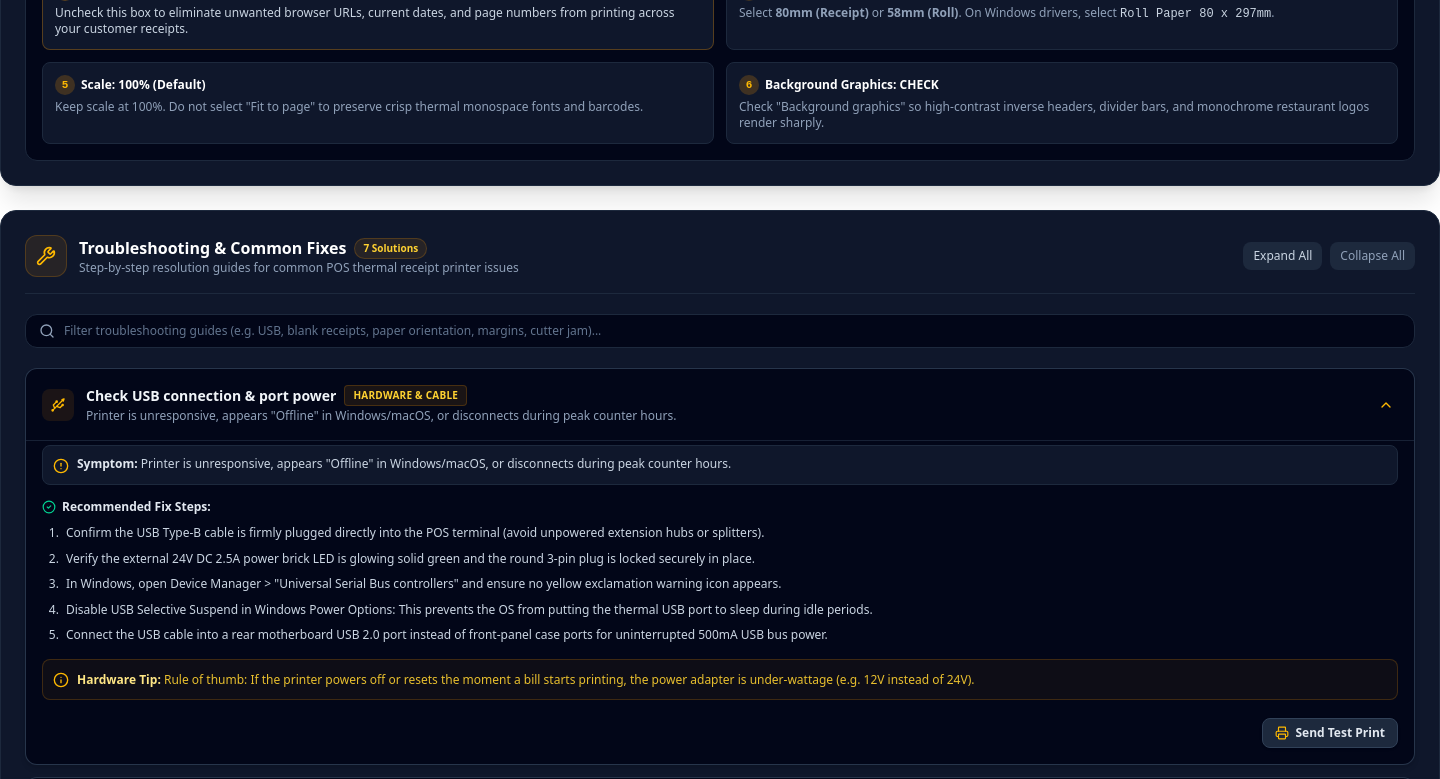
Test: PrinterDiagnosticView › allows collapsing and expanding accordion items
(page scrolled)
Expected: the list item "Confirm the USB Type-B cable is firmly plugged directly" is shown, [66,524,764,541]
// Clicking header collapses it
Click the button "Check USB connection & port power".
click(58, 405)  # box [26,369,1414,440]
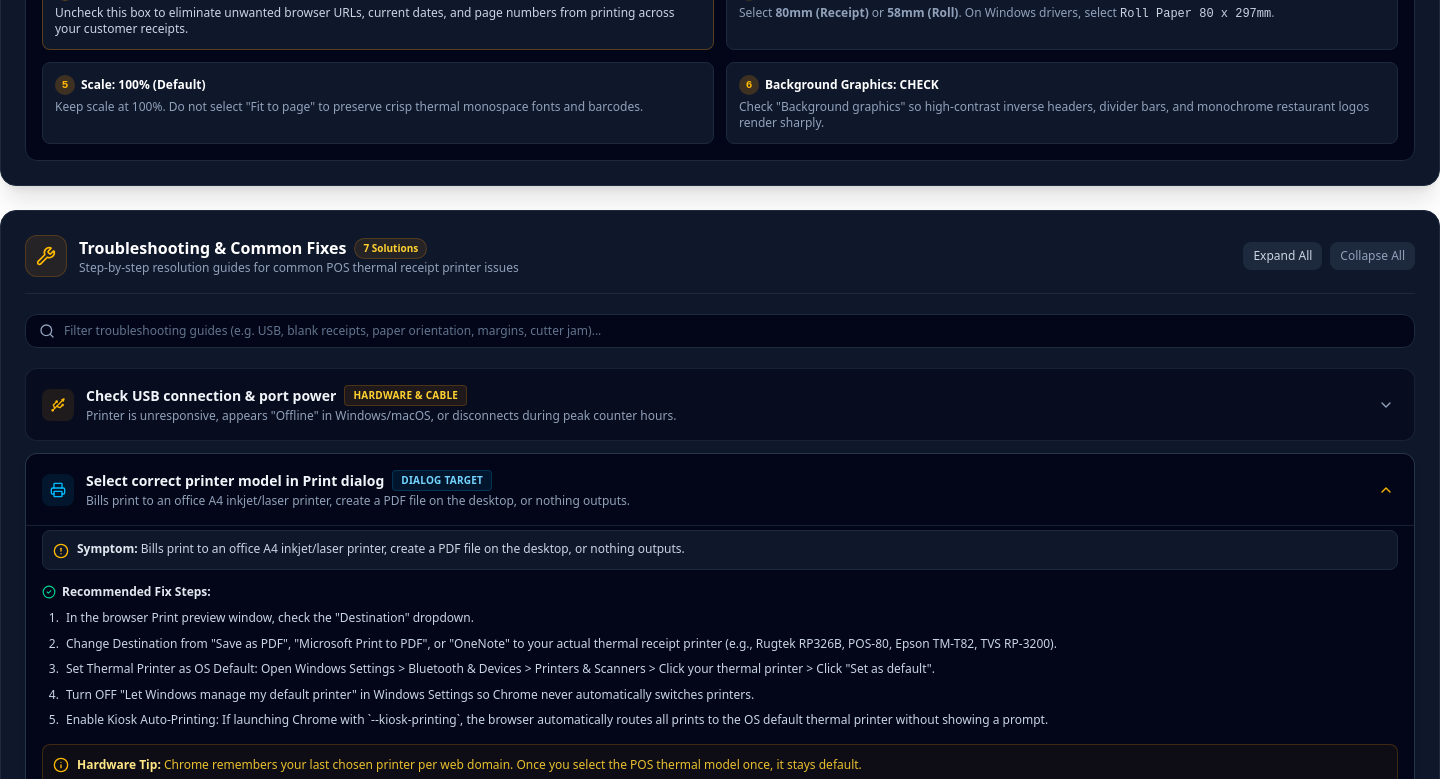
Expected: the list item "Confirm the USB Type-B cable is firmly plugged directly" is gone
// Clicking it again re-expands
Click the button "Check USB connection & port power".
click(58, 405)  # box [26,369,1414,440]
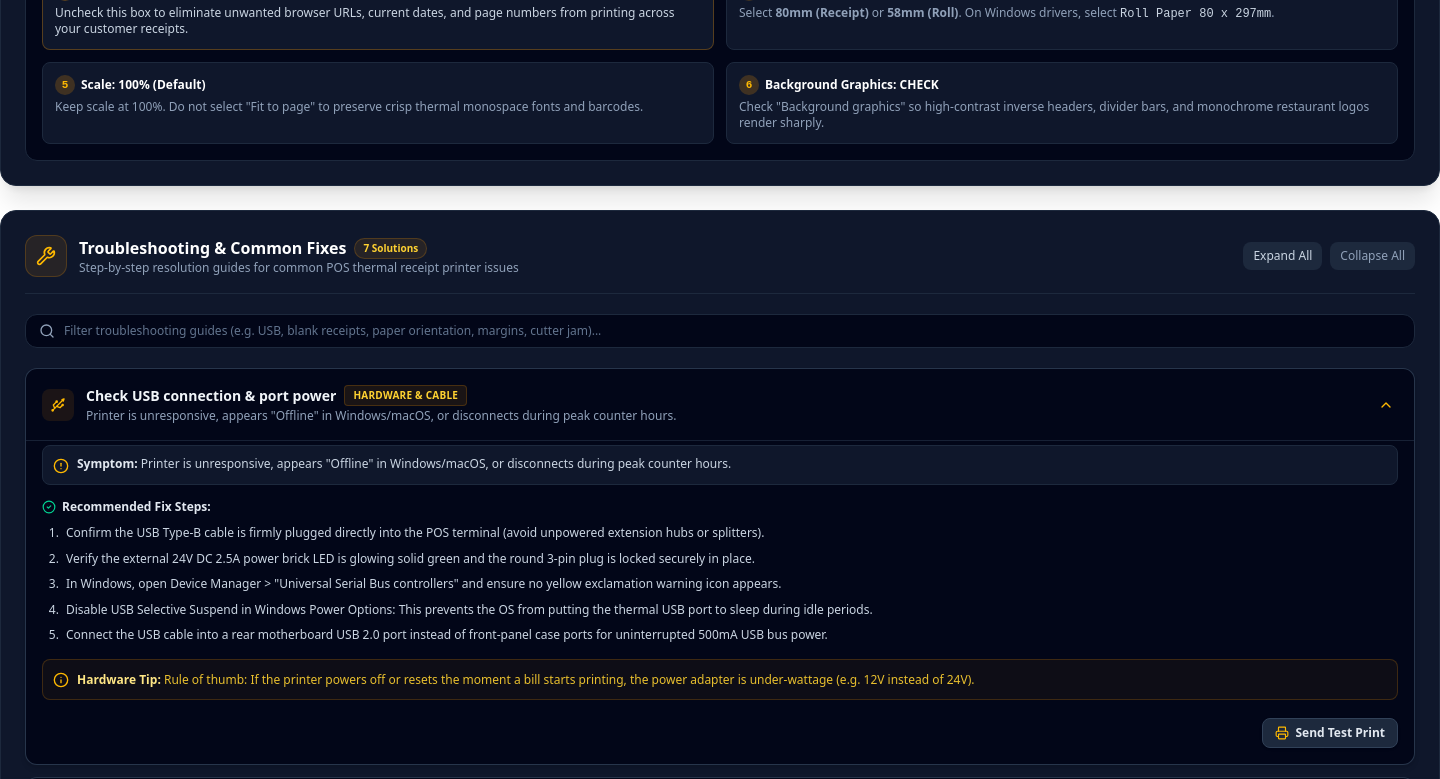
Expected: the list item "Confirm the USB Type-B cable is firmly plugged directly" is shown, [66,524,764,541]
